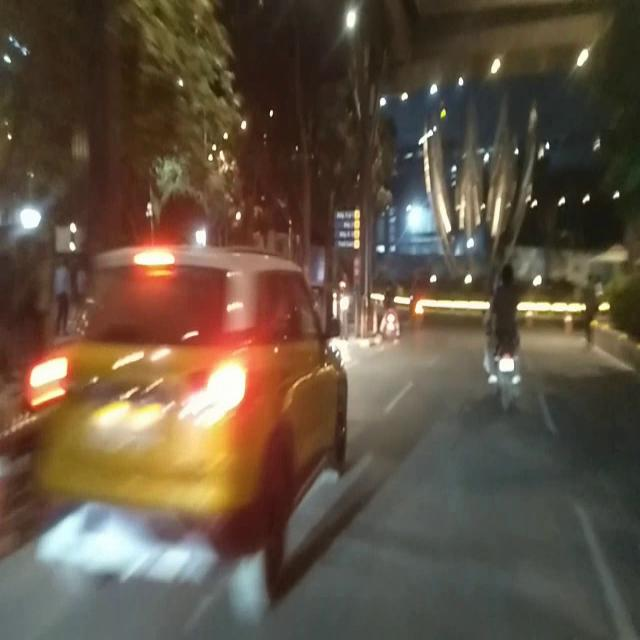car: (26, 240, 346, 640)
motorcycle: (484, 352, 526, 413)
person: (483, 260, 526, 360)
road: (0, 471, 640, 640), (348, 338, 640, 472)
